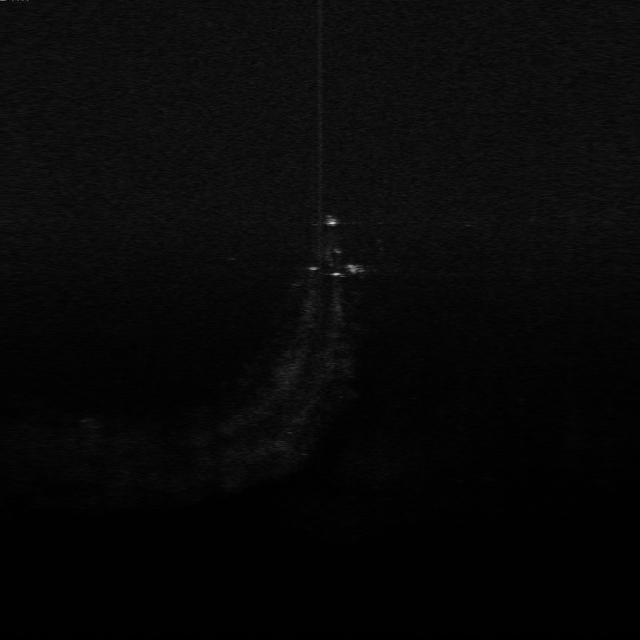rov: (320, 211, 344, 229)
